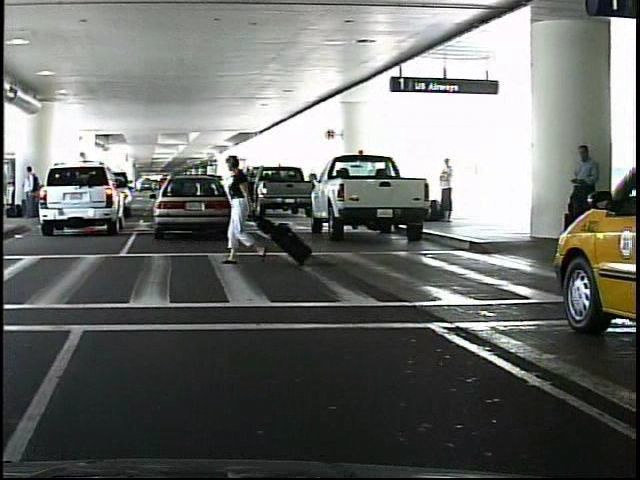person: (560, 140, 602, 251), (228, 155, 268, 265), (435, 154, 460, 223), (23, 162, 41, 223)
